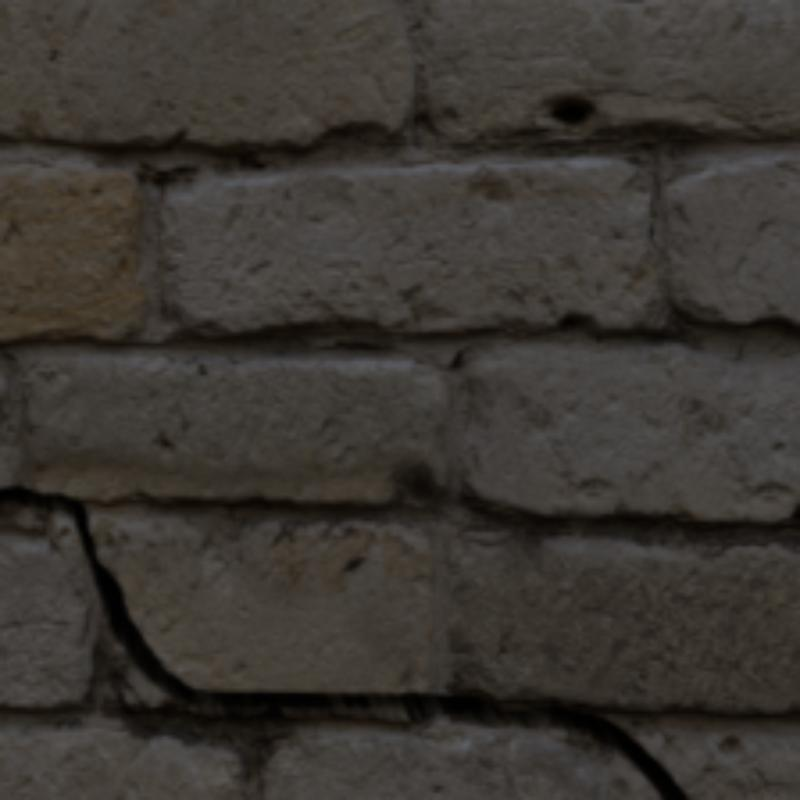pothole: (0, 486, 686, 796)
